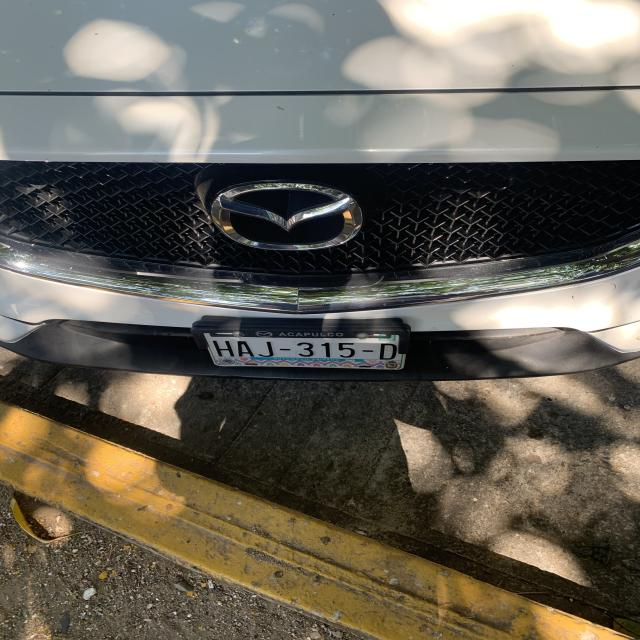placa: (200, 336, 404, 364)
